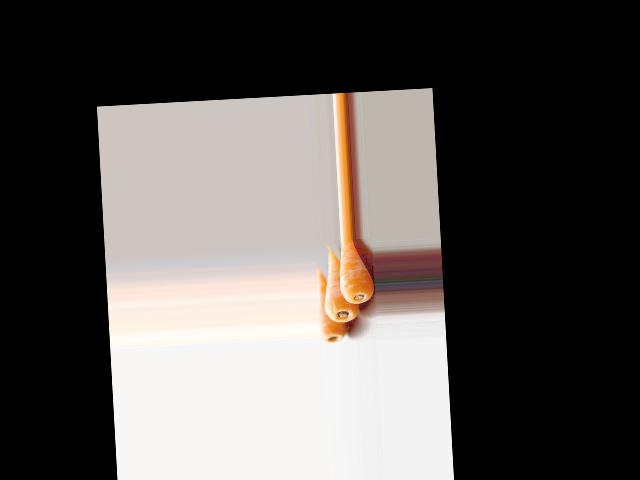carrot: (316, 266, 348, 334)
